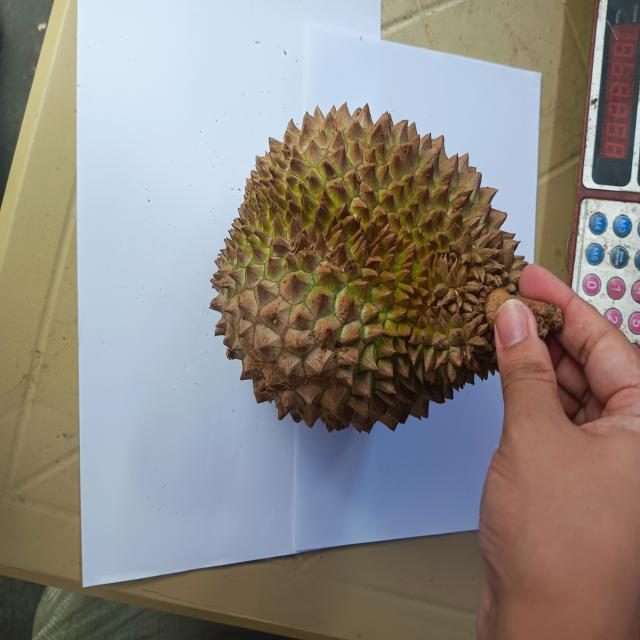mature: (210, 105, 527, 431)
